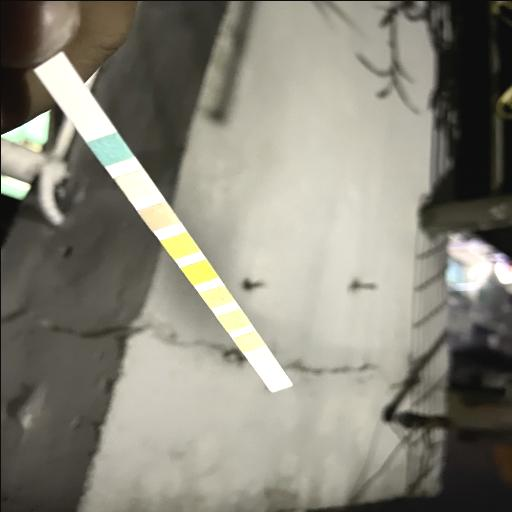Bilirubin: (124, 174, 148, 194)
Blood: (188, 263, 210, 279)
Glucose: (98, 139, 122, 159)
Ketone: (146, 207, 170, 225)
Leukocytes: (268, 374, 286, 386)
Nitrite: (254, 355, 273, 369)
Protein: (222, 313, 244, 327)
SpGravity: (168, 236, 192, 252)
Urobilinogen: (238, 335, 259, 348)
pH: (206, 289, 228, 303)
strip: (32, 55, 293, 392)
